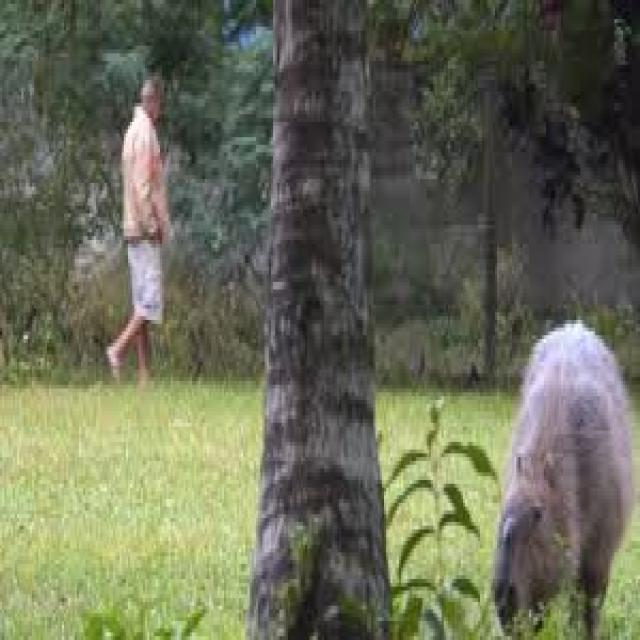capy: (492, 316, 634, 640)
